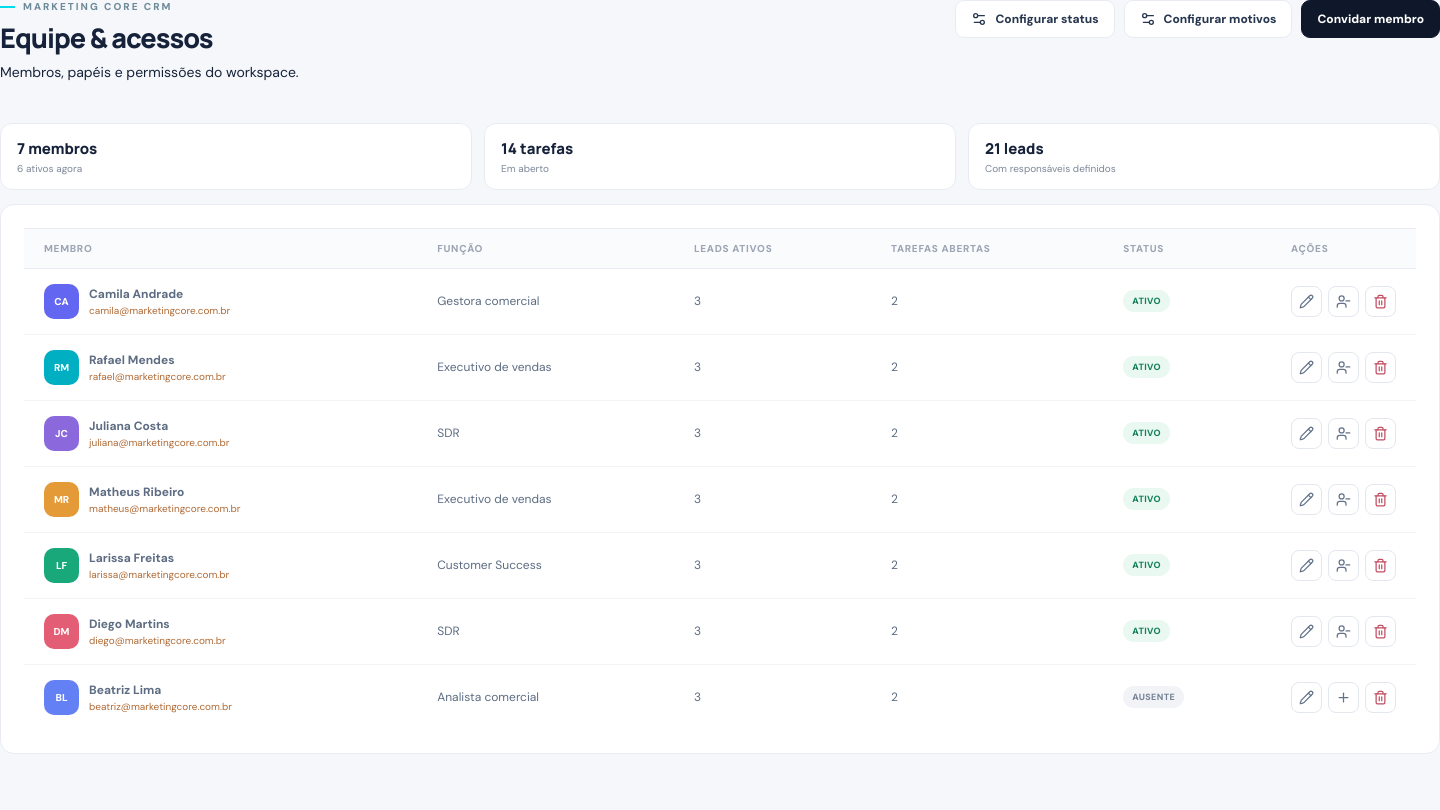
Test case: TeamPage administração › usa uma função selecionável configurada pelo administrador
This screenshot has width=1440, height=810.
Click the button named "Editar Camila Andrade" at [1306, 301], box [1291,286,1322,317]
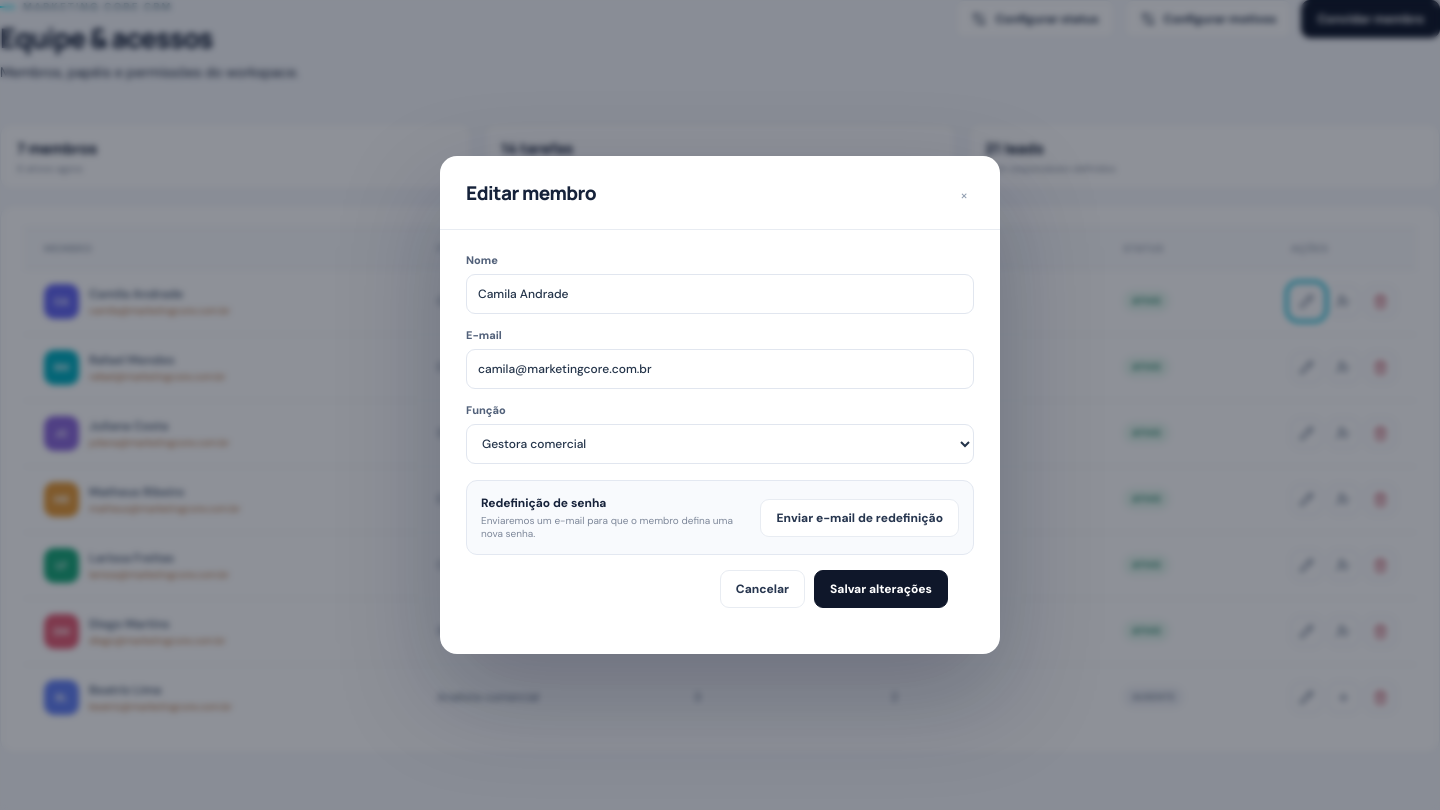
Now the dropdown named "Função do membro" shows "Gestora comercial"
Select "SDR" in the dropdown named "Função do membro" at [720, 444], box [466,424,974,464]
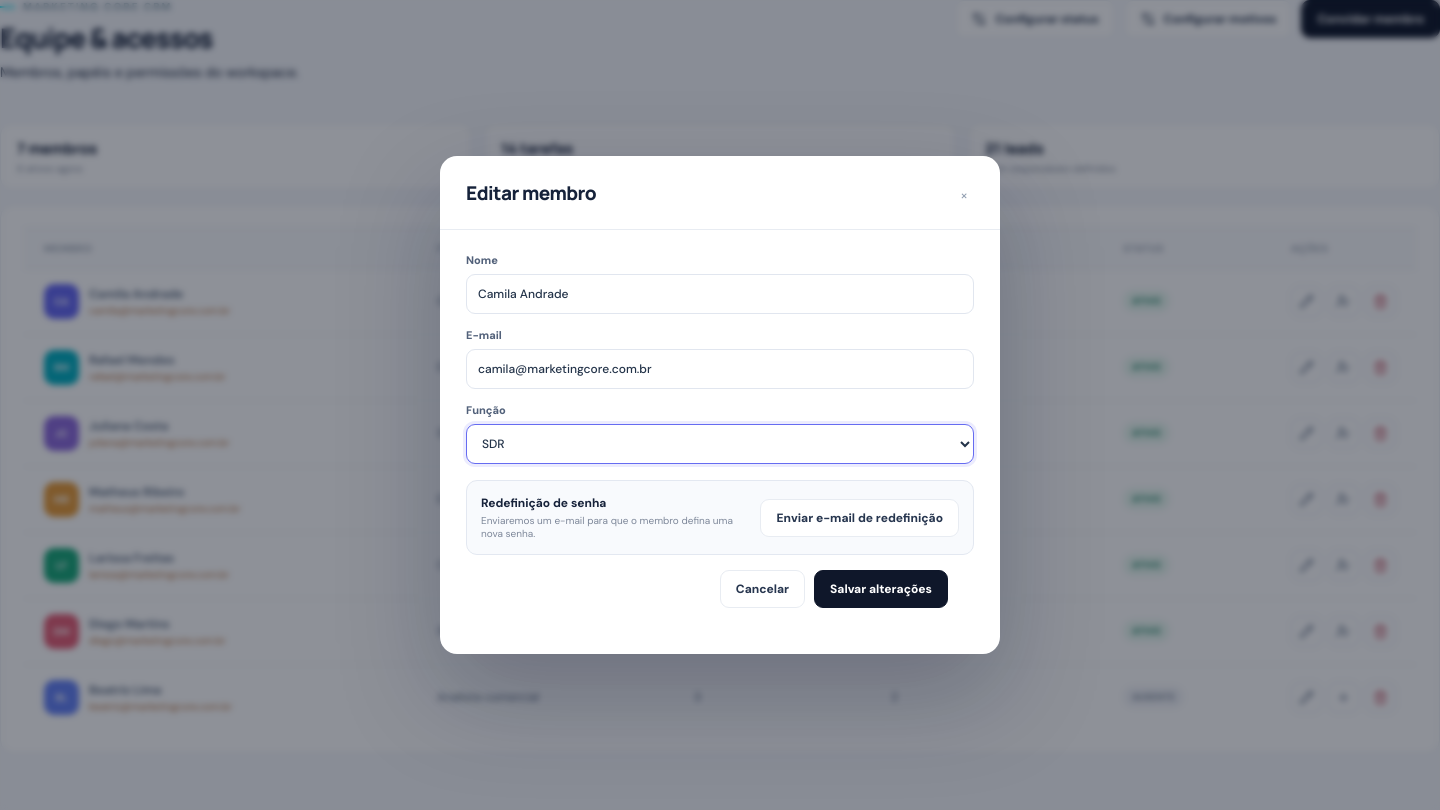
Click the button "Salvar alterações" at [881, 589], box [814,570,948,608]
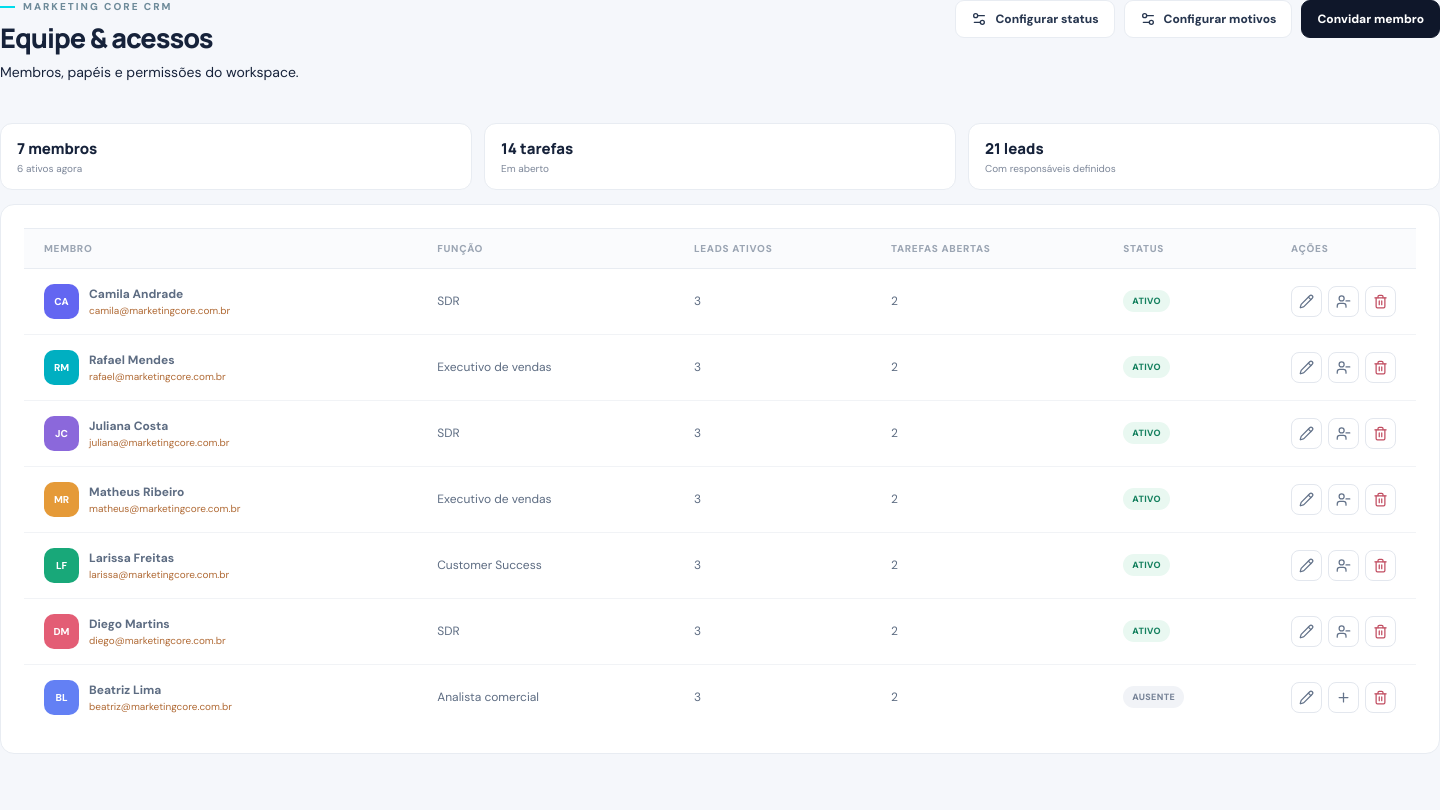
Now the text "SDR" in the row of "Camila Andrade" is shown, box [437,293,460,309]
